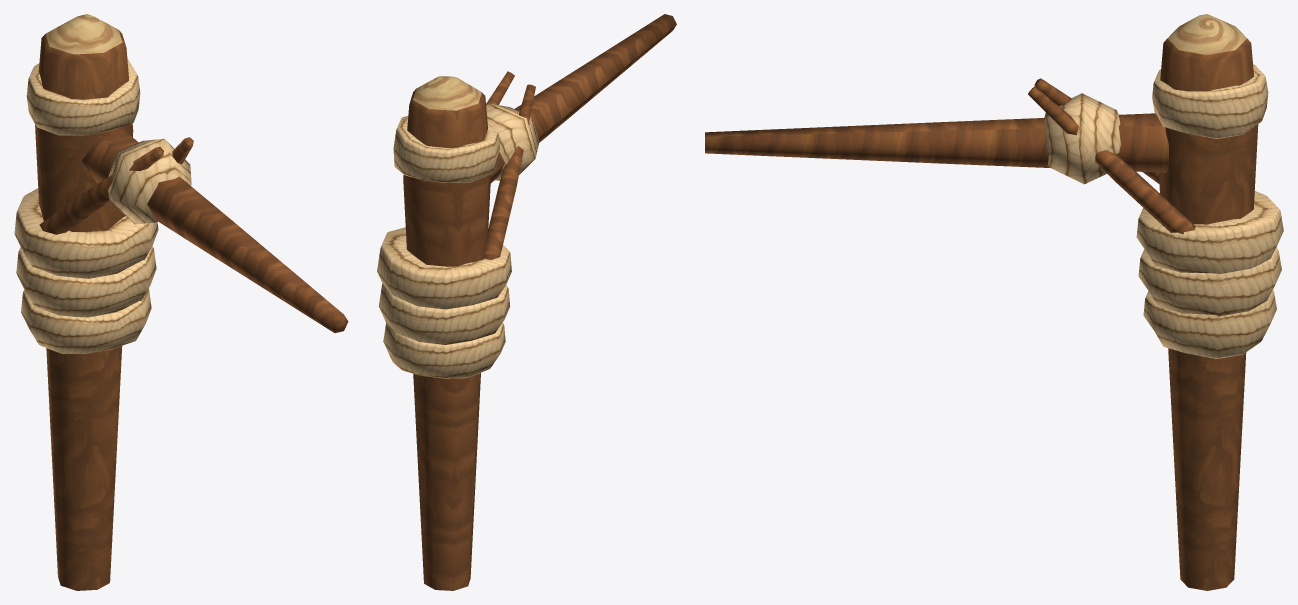
Rendered from Switch1.fbx.
3 renders of one model, left to right at view 1: azimuth 30°, elevation 25°; view 2: azimuth 150°, elevation 25°; view 3: azimuth 270°, elevation 25°, orthographic. The views are drawn at different scales.
Parts seen in each view (by area): view 1: Crank1; view 2: Crank1; view 3: Crank1.
Boxes of the visible parts, left/top/right/bottom form: Crank1: left=14, top=14, right=348, bottom=590; Crank1: left=377, top=14, right=676, bottom=590; Crank1: left=705, top=14, right=1283, bottom=590.
Bounding box in the file's own units: 8.31 × 34.46 × 32.23.
